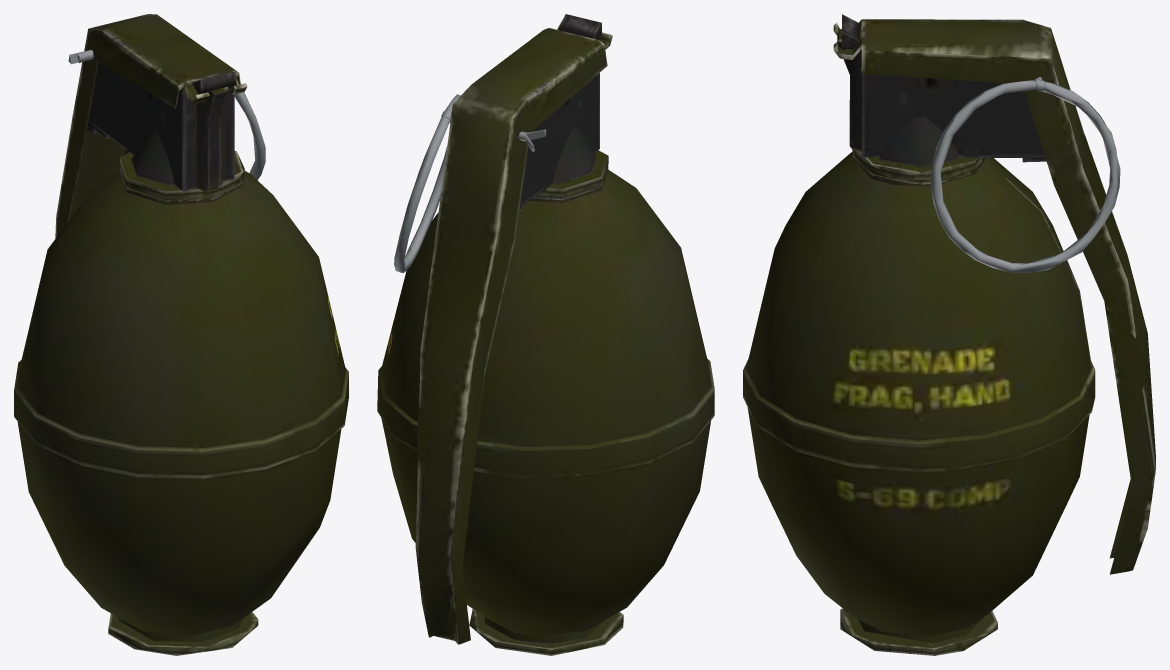
File: 019_FragGrenade_cc0_card.glb
The picture shows the model from 3 angles, left to right: view 1: azimuth 30°, elevation 25°; view 2: azimuth 150°, elevation 25°; view 3: azimuth 270°, elevation 25°; orthographic projection. The views are drawn at different scales.
Parts seen in each view (by area): view 1: Grenade, Pin; view 2: Grenade, Pin; view 3: Grenade, Pin.
Boxes of the visible parts, x1=… form: Grenade: x1=14, y1=14, x2=348, y2=655; Pin: x1=68, y1=49, x2=265, y2=179; Grenade: x1=377, y1=14, x2=714, y2=655; Pin: x1=394, y1=94, x2=546, y2=272; Grenade: x1=743, y1=14, x2=1155, y2=655; Pin: x1=930, y1=77, x2=1120, y2=272.
Bounding box in the file's own units: 0.0541 × 0.1015 × 0.0633.
1 material, 1 textured.
